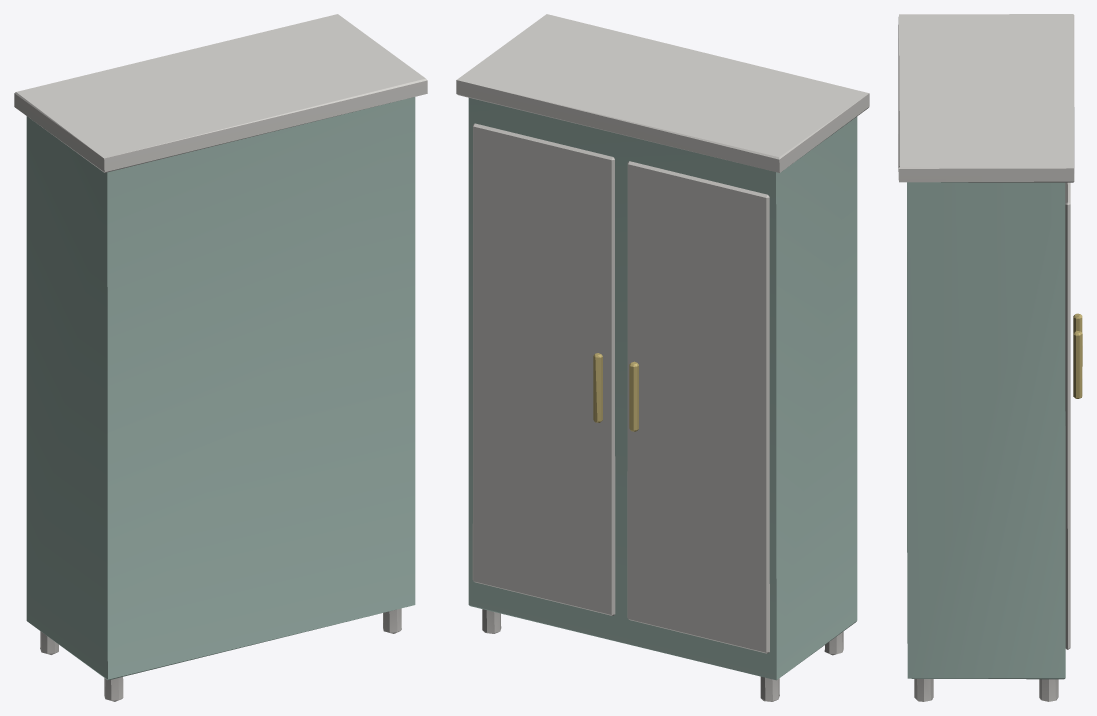
File: furn_wardrobe__mint_low.glb
3 renders of one model, left to right at view 1: azimuth 30°, elevation 25°; view 2: azimuth 150°, elevation 25°; view 3: azimuth 270°, elevation 25°, orthographic. The views are drawn at different scales.
Size of the model in its own units: 1.25 by 2.06 by 0.6343.
